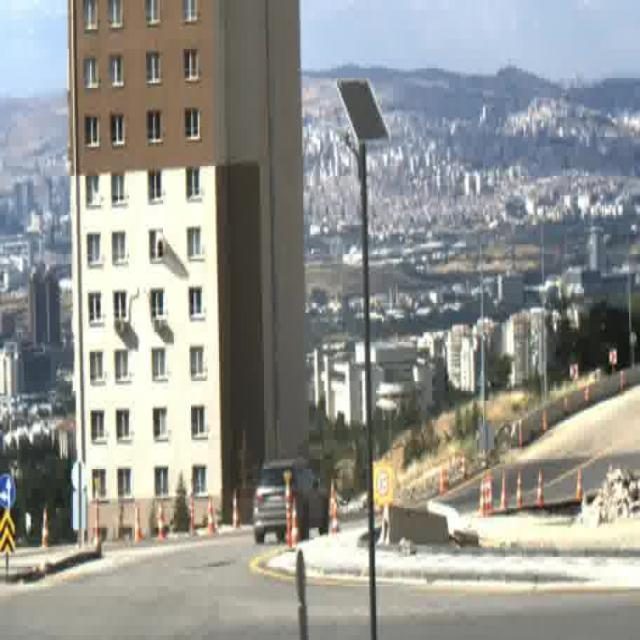Car: (254, 458, 331, 545)
